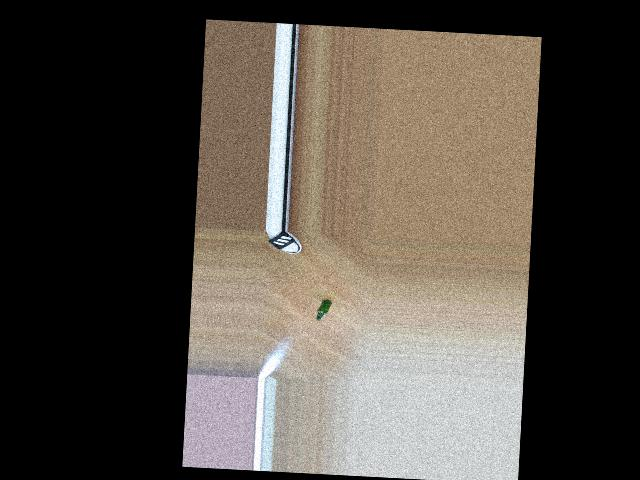beer: (315, 299, 331, 320)
